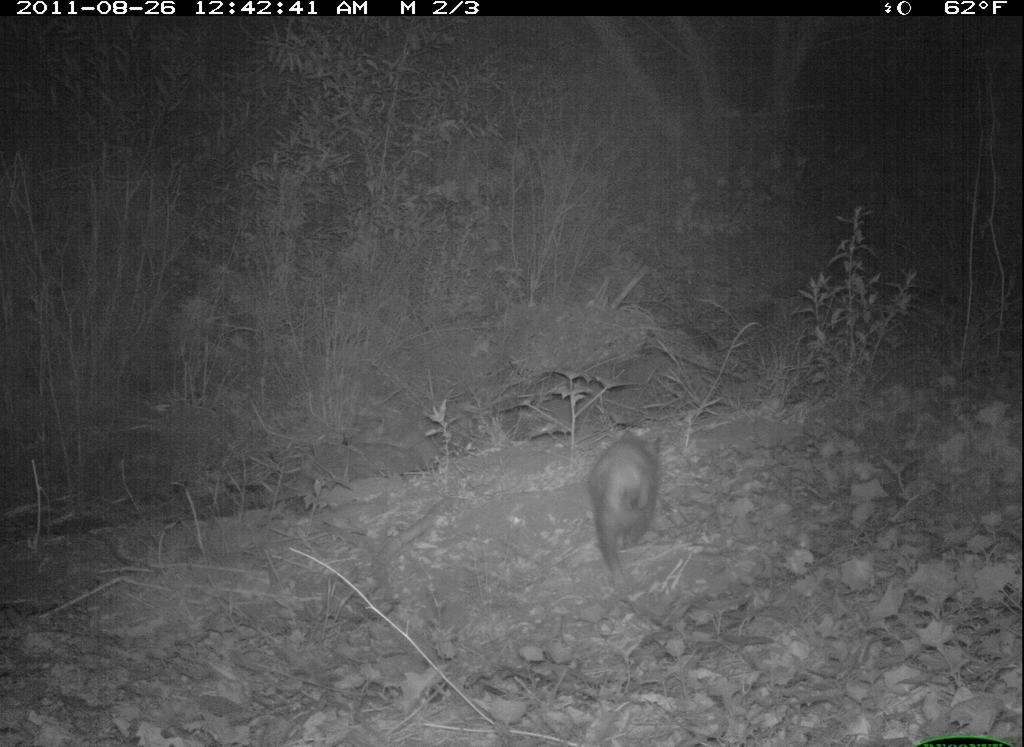opossum: (579, 400, 696, 606)
